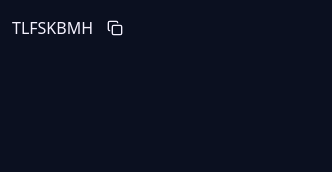
Test: keeps the code selectable and explains a failed fallback
Step 1. Click the button → (115, 28), box [99,12,131,44]
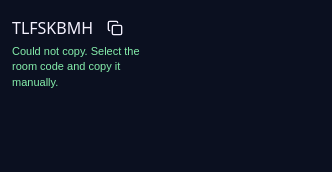
Check: the text "TLFSKBMH" is shown, box [12,16,93,40]
Check: the message shows "Select the room code", box [12,45,140,88]
